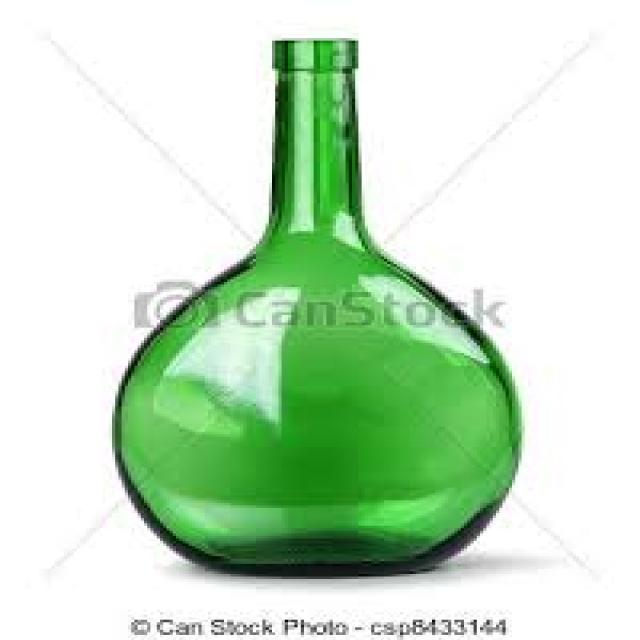glass: (109, 38, 518, 574)
